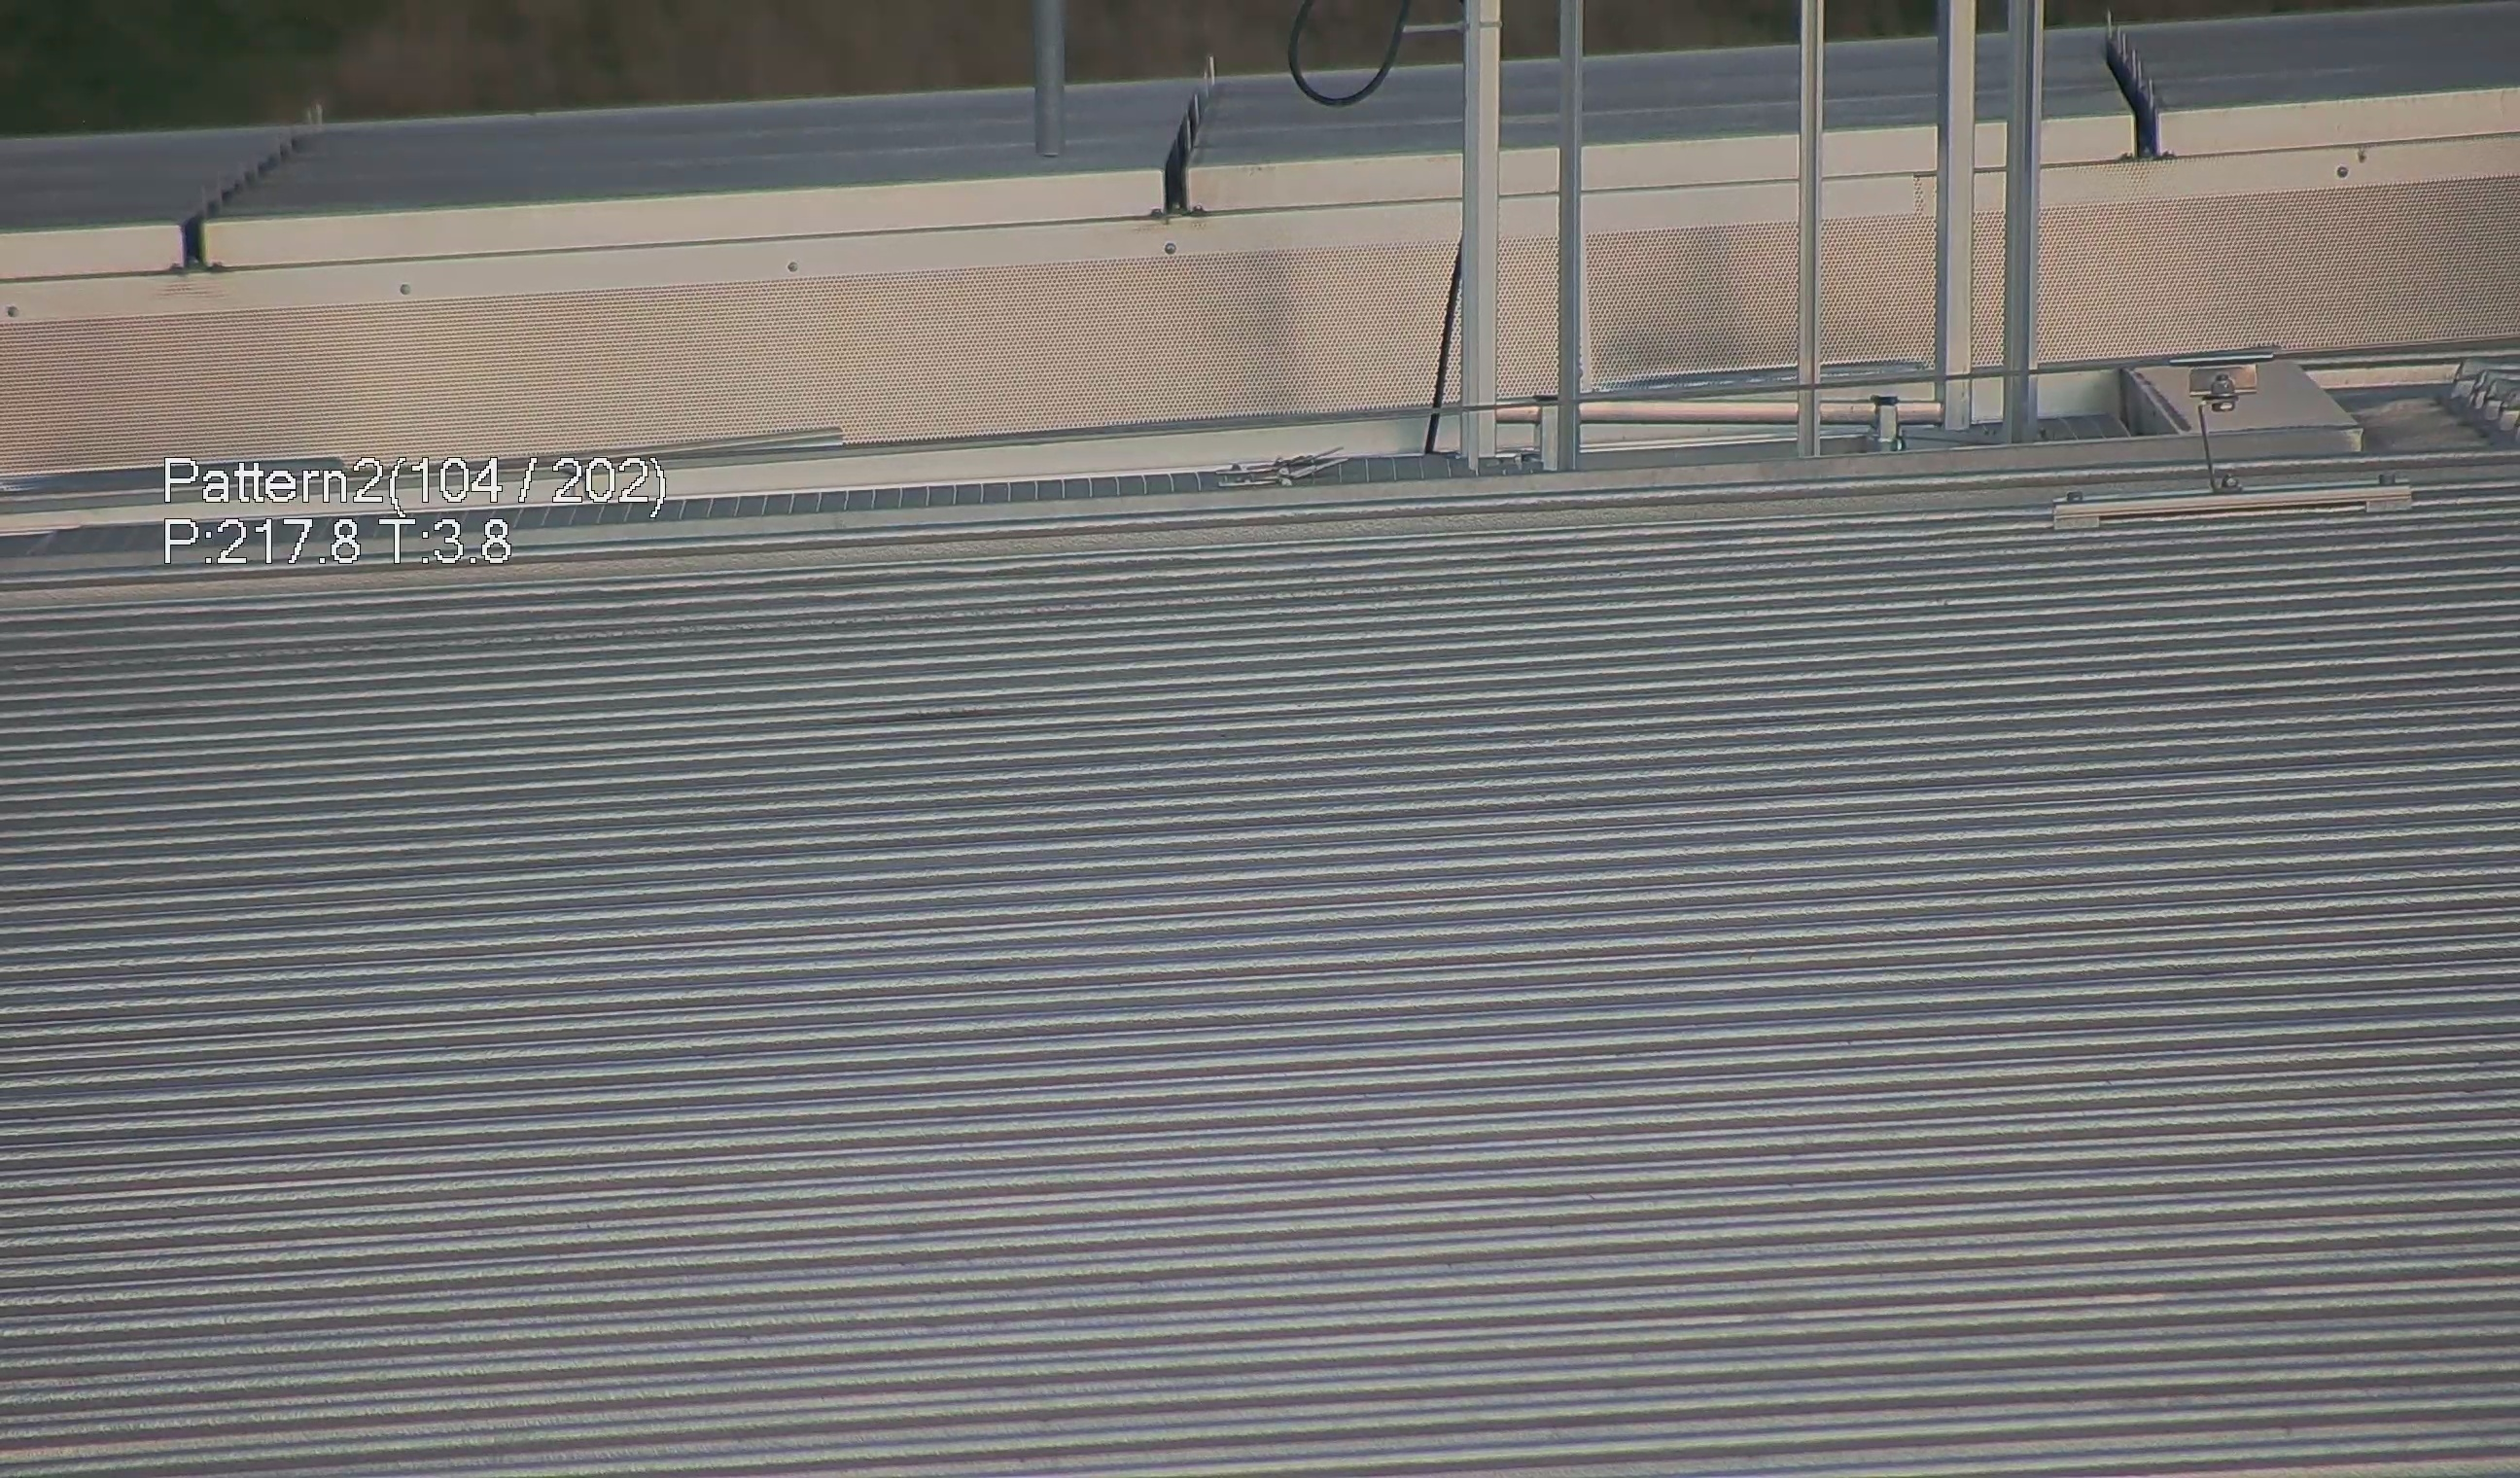Other: (2096, 7, 2182, 169)
